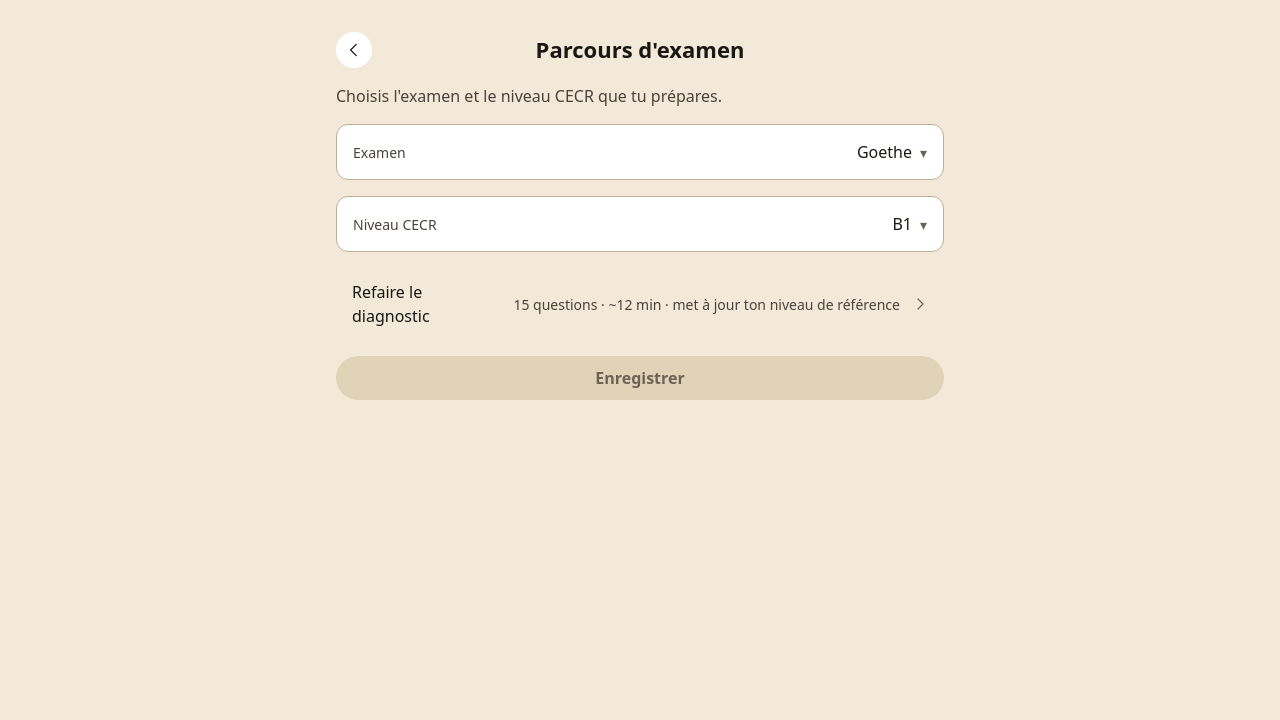
Scenario: ExamTrackScreen (S11.6) › on save failure the modal STAYS OPEN and the error caption shows
This screenshot has width=1280, height=720.
Step 1. Click the button with test id "settings-exam-level-trigger" → click(395, 224), box [336,196,944,252]
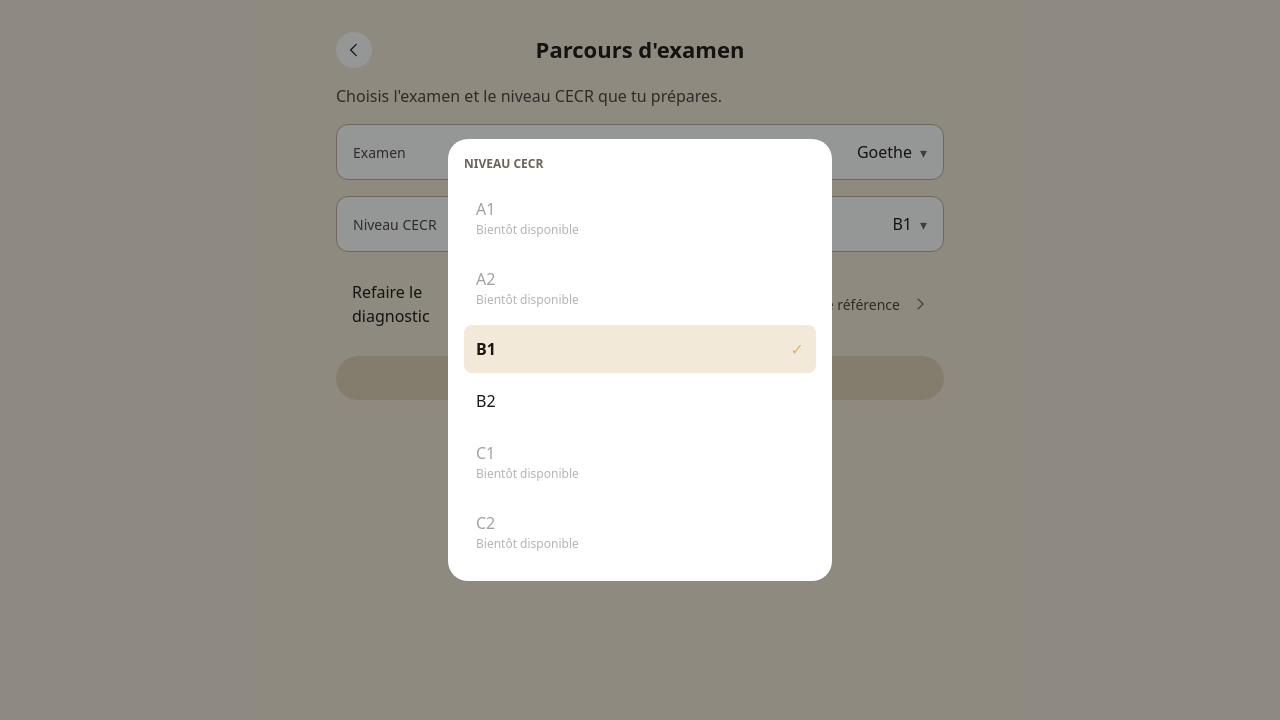
Step 2. Click the radio button with test id "settings-exam-level-b2" → click(486, 401), box [464,377,816,425]
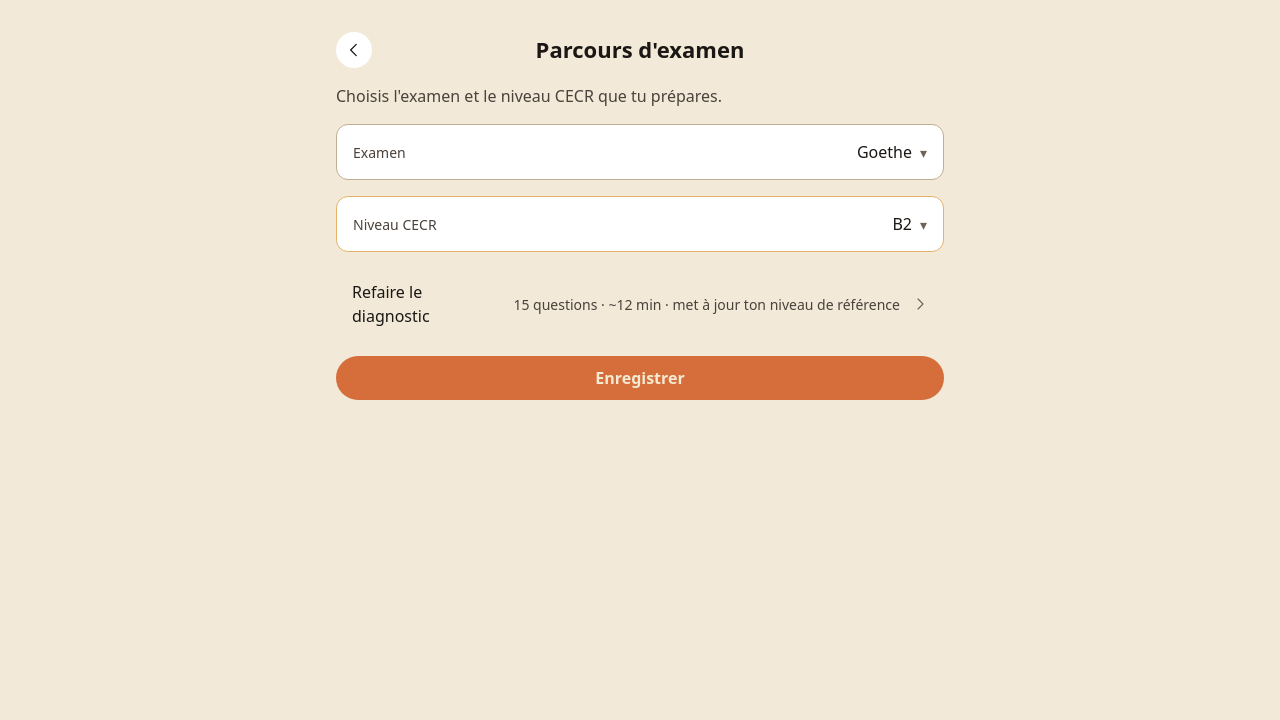
Step 3. Click the button with test id "settings-exam-save" → click(640, 378), box [336,356,944,400]
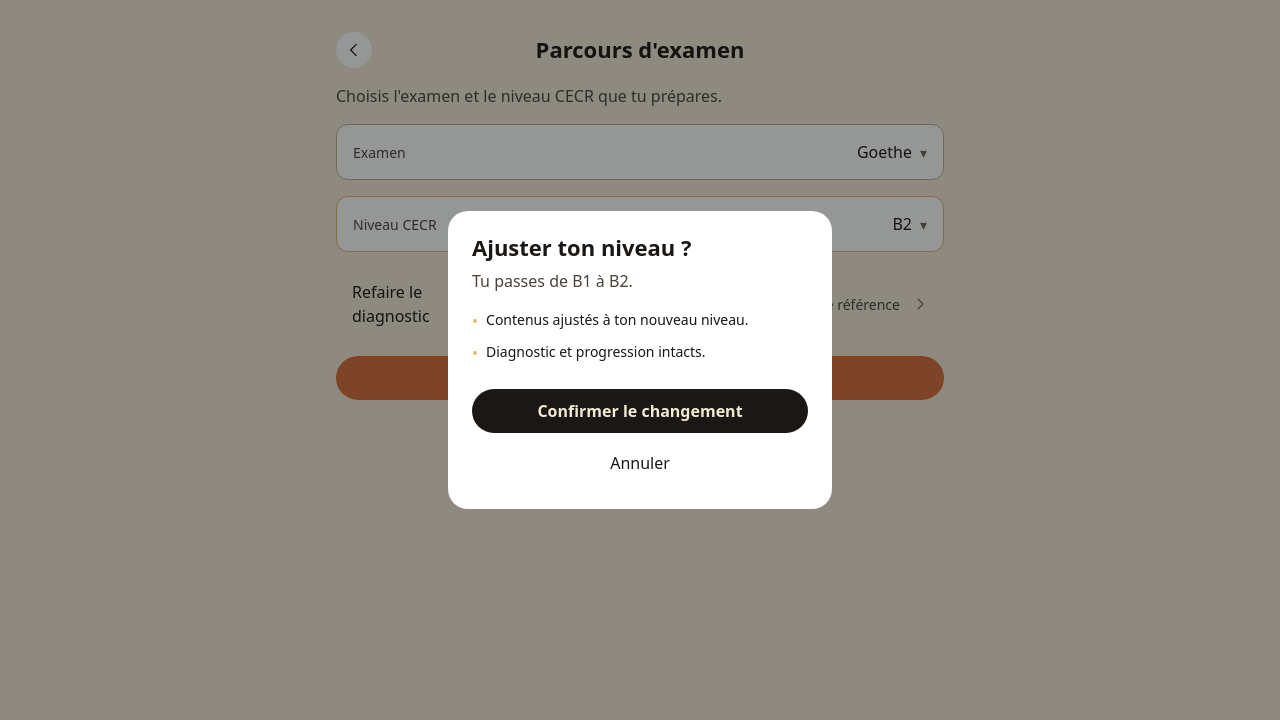
Step 4. Click the button with test id "settings-confirm-exam-change-modal-confirm" → click(640, 411), box [472,389,808,433]
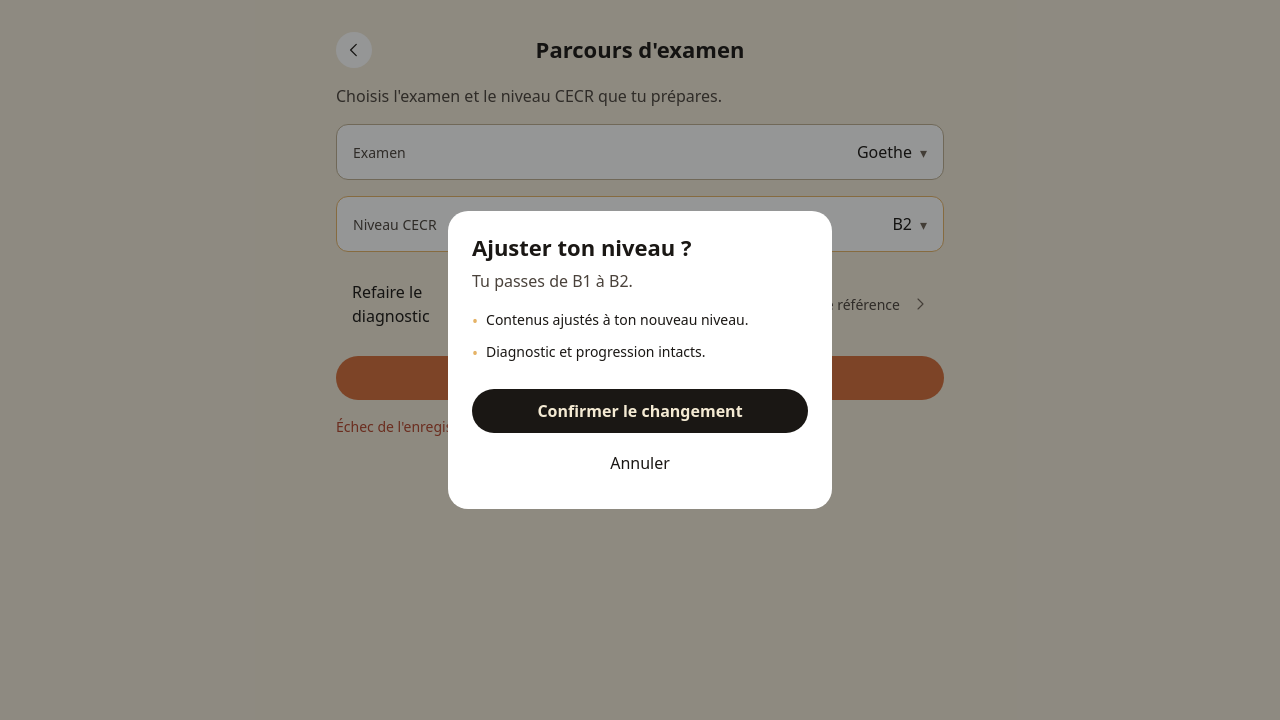
expect the dialog with test id "settings-confirm-exam-change-modal" is shown: met, box [448,211,832,509]
expect the message "Échec de l'enregistrement — vérifie ta connexion puis réessaie." is shown: met, box [336,417,749,436]
